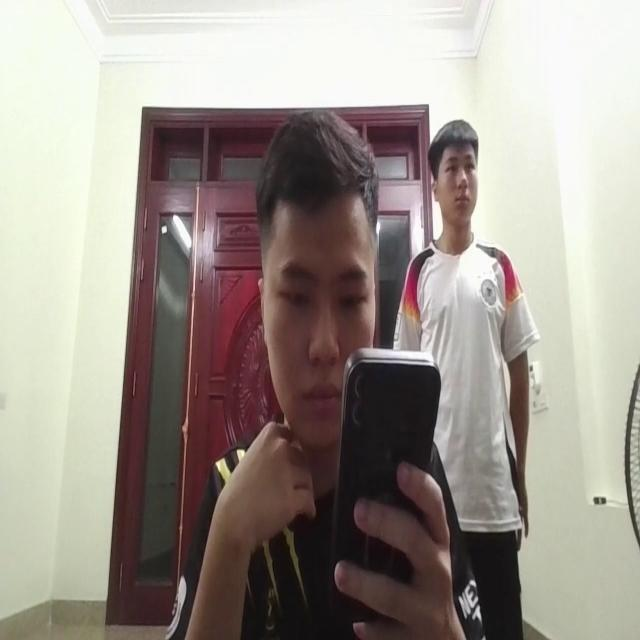extra_person: (396, 100, 534, 559)
phone: (338, 336, 442, 614)
student: (178, 99, 446, 640)
